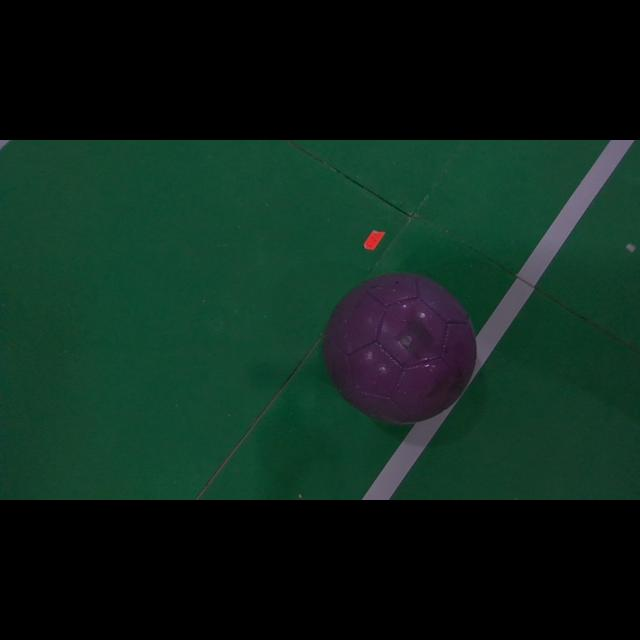P: (325, 274, 475, 423)
